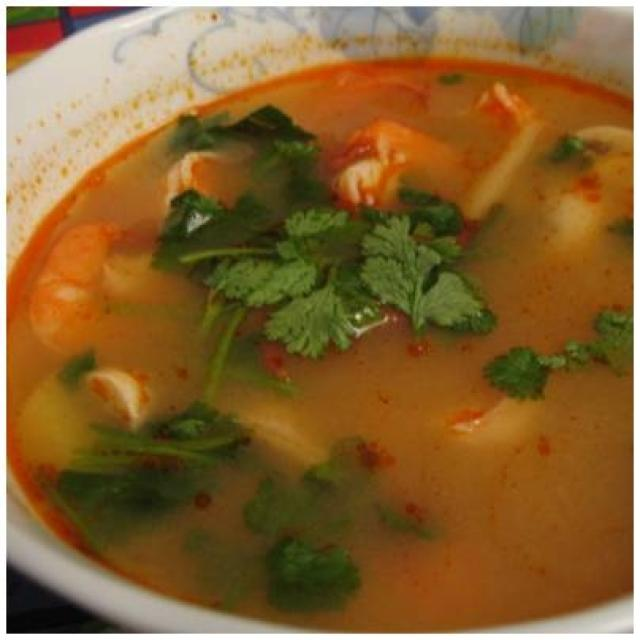汤锅炖物: (34, 25, 596, 599)
